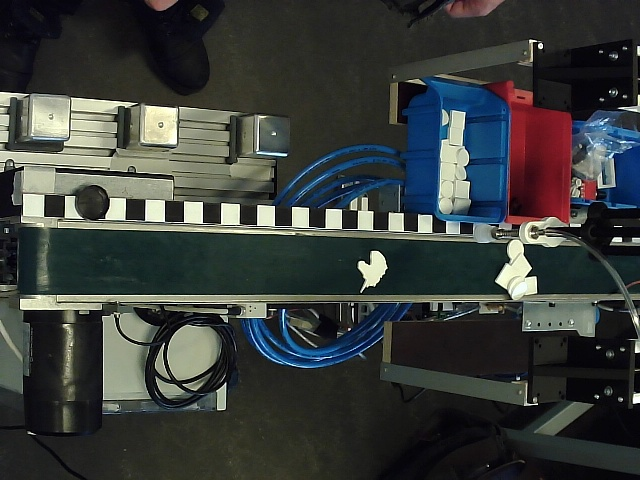unicorn: (357, 249, 389, 294)
